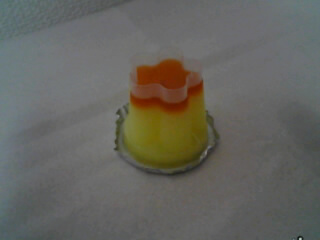001_classes: (100, 49, 226, 176)
